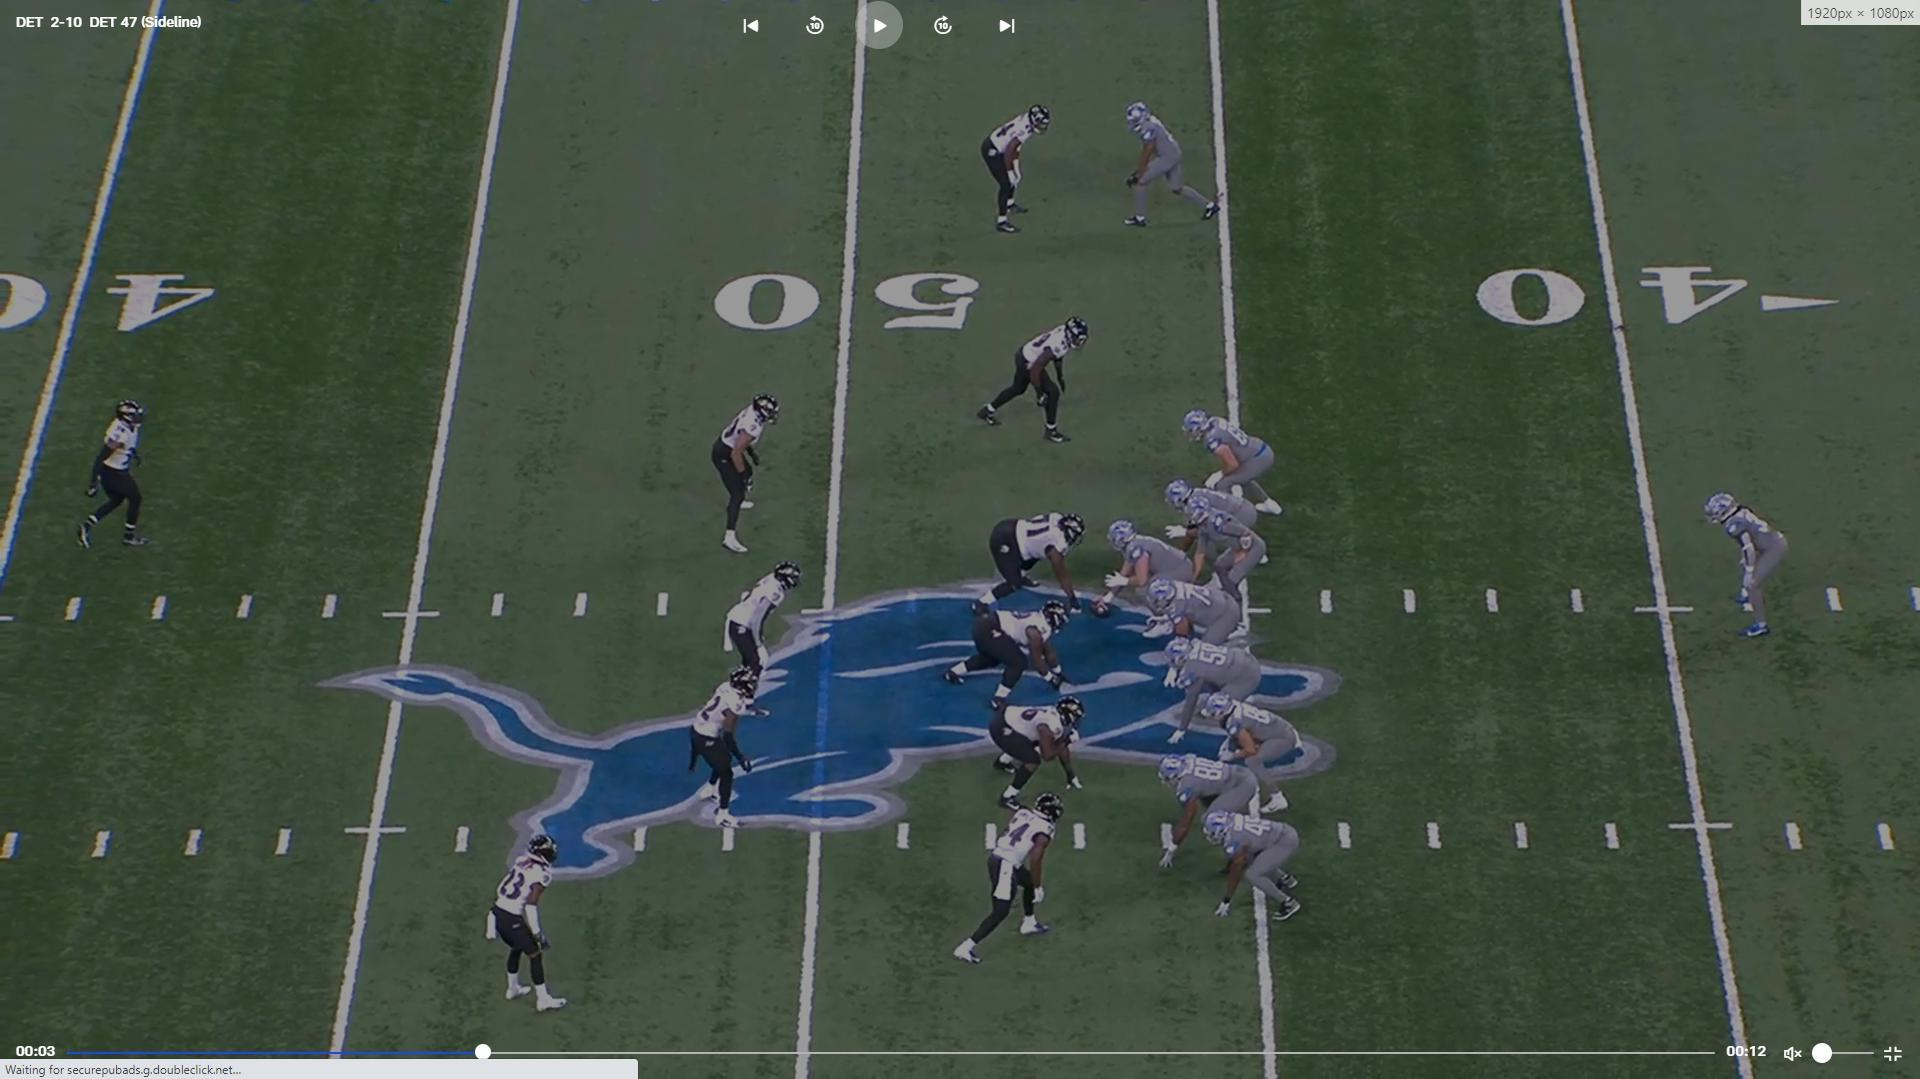defense: (960, 797, 1065, 967), (975, 313, 1095, 452), (484, 827, 570, 1022), (703, 389, 781, 559), (70, 394, 150, 558), (682, 665, 753, 849), (715, 561, 798, 704), (953, 595, 1080, 689), (989, 700, 1092, 807), (981, 99, 1056, 241), (984, 507, 1095, 603)
oline: (1182, 408, 1291, 524), (1096, 526, 1192, 629), (1163, 475, 1265, 543), (1156, 631, 1257, 698), (1145, 576, 1245, 640)
qb: (1189, 492, 1274, 607)
skill: (1117, 98, 1226, 236), (1697, 489, 1789, 648), (1154, 751, 1254, 864), (1209, 806, 1305, 919), (1224, 695, 1304, 810)
